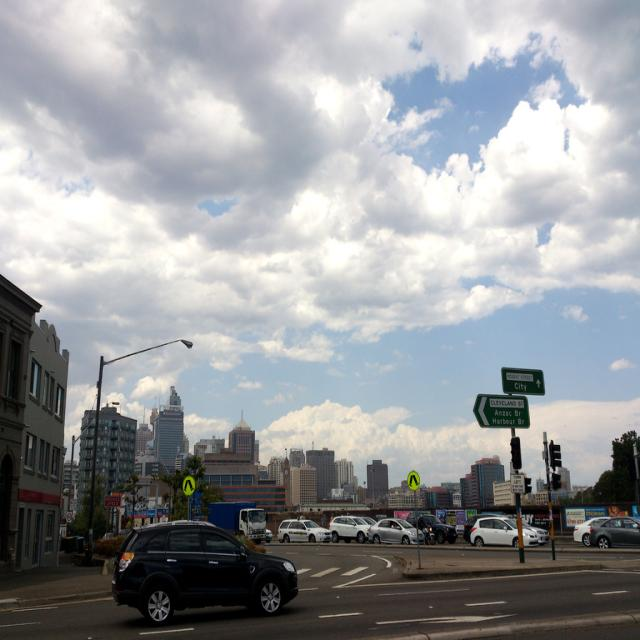car: (110, 519, 298, 626)
